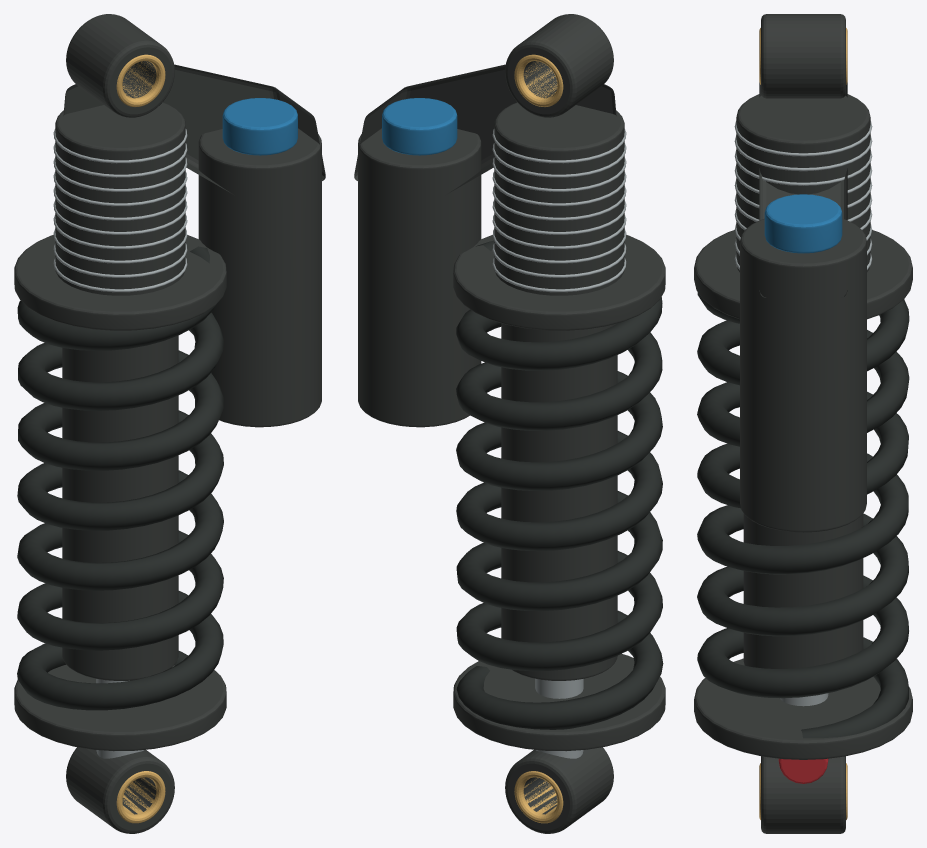
The model's file is marzocchi-bomber-cr--d17a8240.glb.
3 views of the same model, side by side, from view 1: azimuth 30°, elevation 25°; view 2: azimuth 150°, elevation 25°; view 3: azimuth 270°, elevation 25° (orthographic). The views are drawn at different scales.
Parts seen in each view (by area): view 1: marzocchi-bomber-cr--d17a8240__link, marzocchi-bomber-cr--d17a8240__coil, marzocchi-bomber-cr--d17a8240__bolts, marzocchi-bomber-cr--d17a8240__adjuster, marzocchi-bomber-cr--d17a8240__stanchions; view 2: marzocchi-bomber-cr--d17a8240__link, marzocchi-bomber-cr--d17a8240__coil, marzocchi-bomber-cr--d17a8240__bolts, marzocchi-bomber-cr--d17a8240__adjuster, marzocchi-bomber-cr--d17a8240__stanchions; view 3: marzocchi-bomber-cr--d17a8240__link, marzocchi-bomber-cr--d17a8240__coil, marzocchi-bomber-cr--d17a8240__adjuster, marzocchi-bomber-cr--d17a8240__bolts, marzocchi-bomber-cr--d17a8240__rebound, marzocchi-bomber-cr--d17a8240__stanchions.
Part boxes in pixels (x1,y1,x2,y2): marzocchi-bomber-cr--d17a8240__link: [14, 14, 325, 833]; marzocchi-bomber-cr--d17a8240__coil: [17, 246, 224, 710]; marzocchi-bomber-cr--d17a8240__bolts: [53, 129, 187, 758]; marzocchi-bomber-cr--d17a8240__adjuster: [222, 98, 297, 155]; marzocchi-bomber-cr--d17a8240__stanchions: [116, 54, 165, 823]; marzocchi-bomber-cr--d17a8240__link: [354, 14, 665, 833]; marzocchi-bomber-cr--d17a8240__coil: [456, 240, 663, 729]; marzocchi-bomber-cr--d17a8240__bolts: [492, 129, 626, 758]; marzocchi-bomber-cr--d17a8240__adjuster: [382, 98, 457, 155]; marzocchi-bomber-cr--d17a8240__stanchions: [514, 54, 563, 823]; marzocchi-bomber-cr--d17a8240__link: [694, 14, 912, 833]; marzocchi-bomber-cr--d17a8240__coil: [697, 292, 909, 738]; marzocchi-bomber-cr--d17a8240__adjuster: [764, 194, 842, 253]; marzocchi-bomber-cr--d17a8240__bolts: [734, 121, 872, 706]; marzocchi-bomber-cr--d17a8240__rebound: [778, 758, 828, 783]; marzocchi-bomber-cr--d17a8240__stanchions: [759, 28, 847, 819].
Size of the model in its own units: 0.096 by 0.254 by 0.062.
